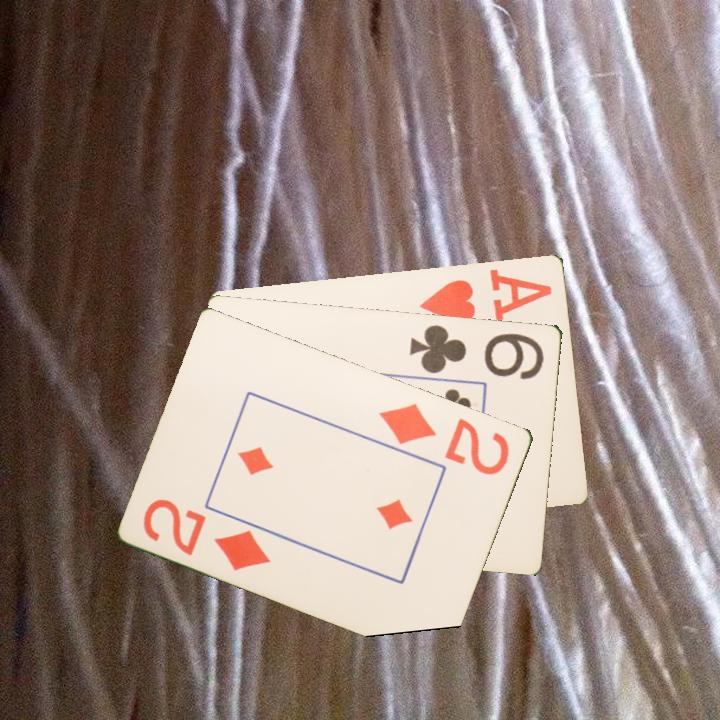2d: (375, 399, 513, 478), (140, 495, 274, 574)
6c: (406, 320, 547, 382)
Ah: (416, 265, 556, 326)
